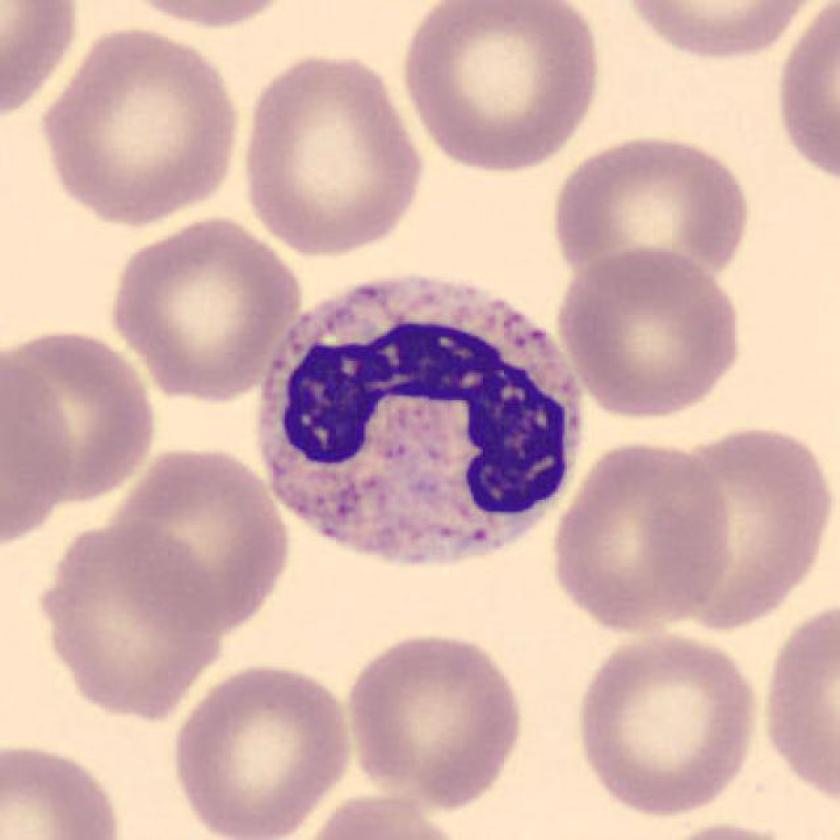neutrophil: (256, 278, 580, 563)
